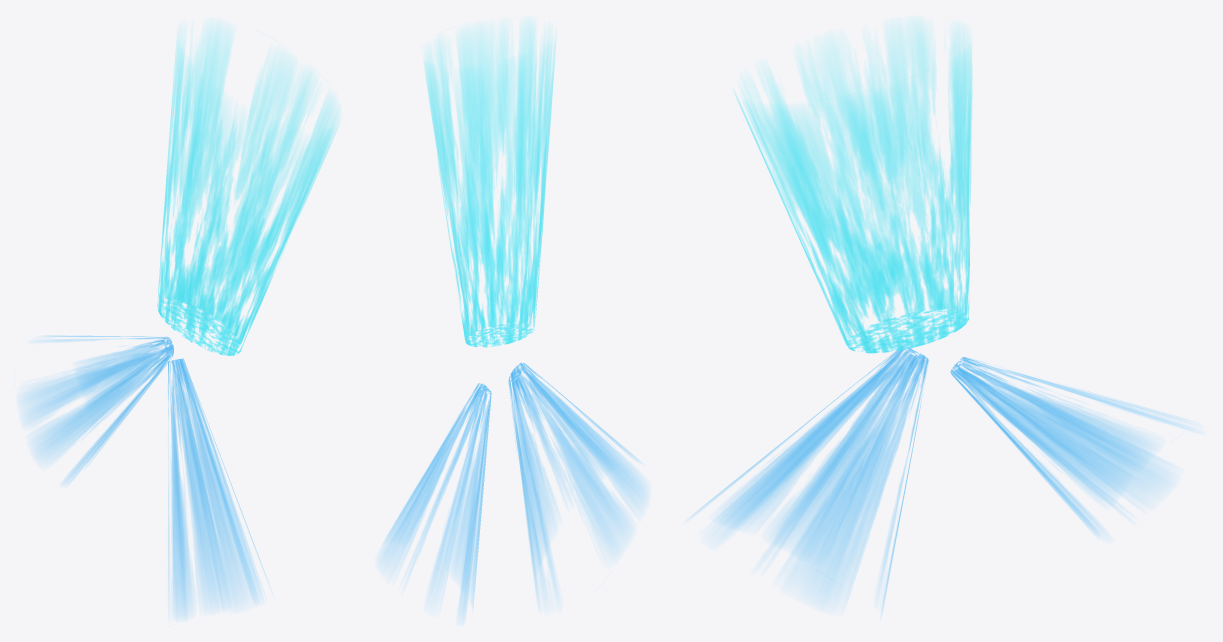
The model's file is etacar_blueglow.glb.
3 renders of one model, left to right at view 1: azimuth 30°, elevation 25°; view 2: azimuth 150°, elevation 25°; view 3: azimuth 270°, elevation 25°, orthographic. The views are drawn at different scales.
Parts seen in each view (by area): view 1: Cylinder.001_baked, Cylinder.002_baked, Cylinder_baked; view 2: Cylinder.001_baked, Cylinder.002_baked, Cylinder_baked; view 3: Cylinder.001_baked, Cylinder.002_baked, Cylinder_baked.
Part boxes in pixels (<box>): Cylinder.001_baked: <box>157,24,339,355</box>; Cylinder.002_baked: <box>168,358,269,618</box>; Cylinder_baked: <box>21,335,173,483</box>; Cylinder.001_baked: <box>424,22,555,347</box>; Cylinder.002_baked: <box>508,362,647,601</box>; Cylinder_baked: <box>379,383,491,620</box>; Cylinder.001_baked: <box>734,22,972,353</box>; Cylinder.002_baked: <box>692,346,928,614</box>; Cylinder_baked: <box>950,357,1193,536</box>.
Size of the model in its own units: 0.2689 by 0.913 by 0.6989.
3 materials, 3 textured.
